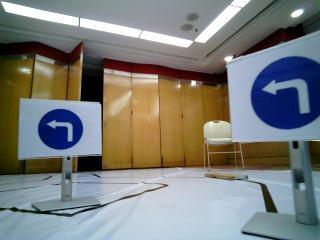left: (226, 51, 320, 132), (23, 98, 100, 155)
